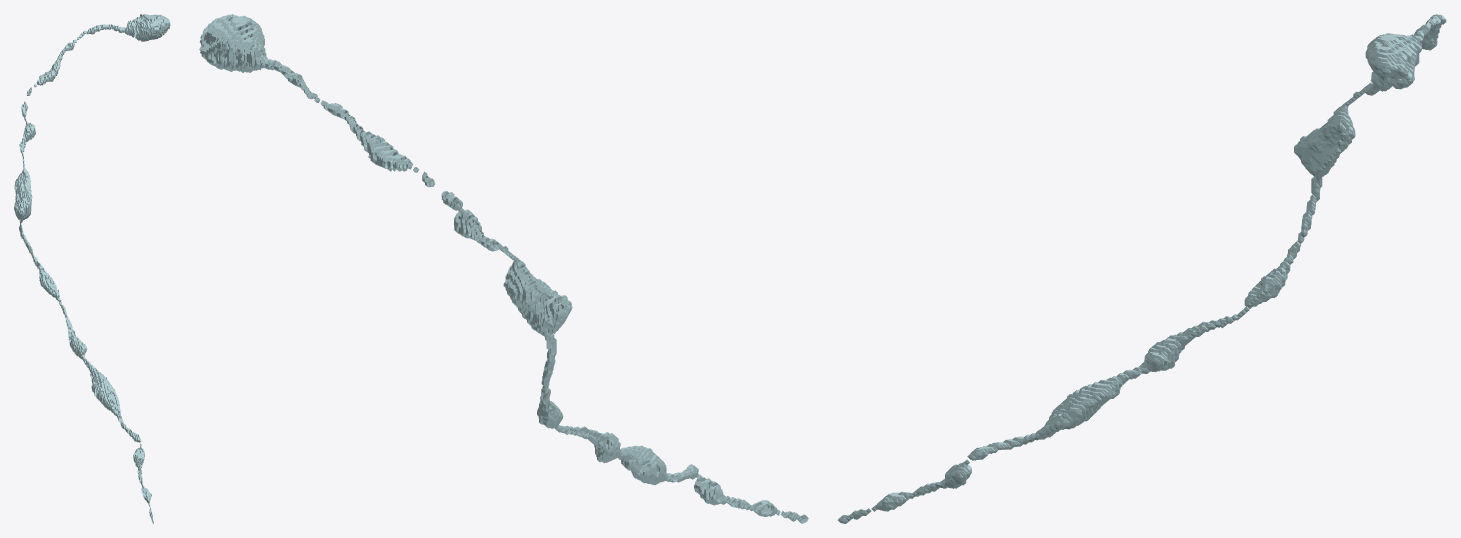
File: SVV_ASJL.gltf
3 renders of one model, left to right at view 1: azimuth 30°, elevation 25°; view 2: azimuth 150°, elevation 25°; view 3: azimuth 270°, elevation 25°, orthographic. The views are drawn at different scales.
Parts seen in each view (by area): view 1: ASJL; view 2: ASJL; view 3: ASJL.
Part boxes in pixels (<box>): ASJL: <box>14,14,170,523</box>; ASJL: <box>199,14,808,523</box>; ASJL: <box>838,14,1446,523</box>.
Size of the model in its own units: 78537 by 150388 by 134519.
